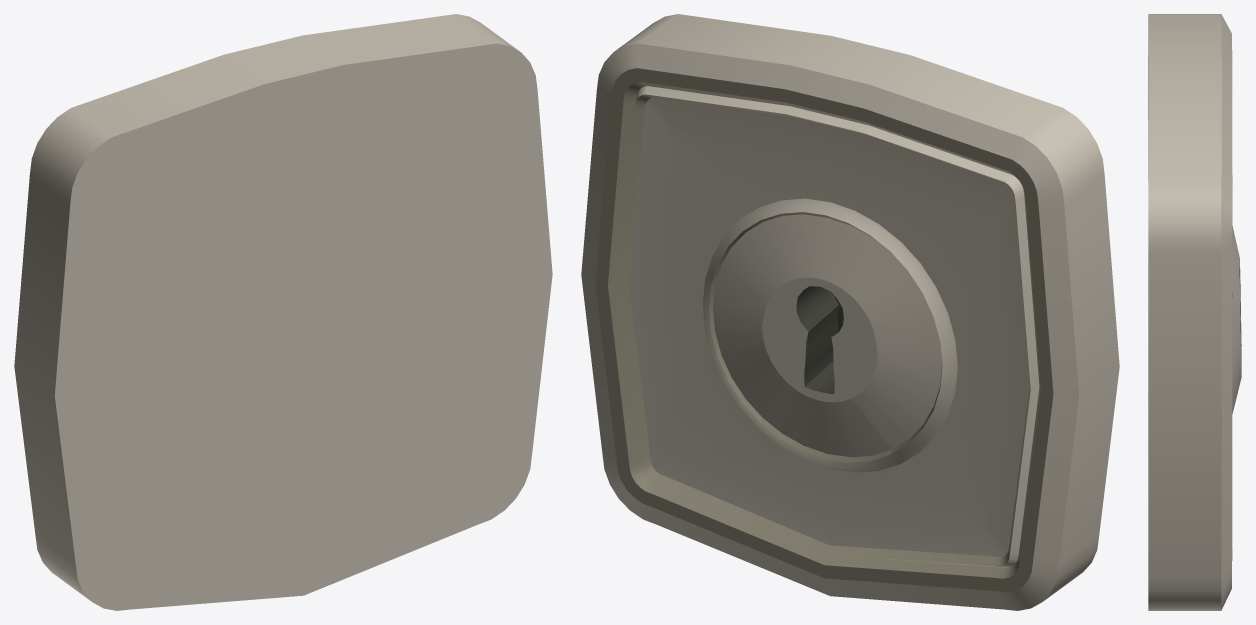
The model's file is Lock.fbx.
3 views of the same model, side by side, from view 1: azimuth 30°, elevation 25°; view 2: azimuth 150°, elevation 25°; view 3: azimuth 270°, elevation 25° (orthographic). The views are drawn at different scales.
Parts seen in each view (by area): view 1: Cube; view 2: Cube; view 3: Cube.
Part boxes in pixels (x1,y1,x2,y2): Cube: [14, 14, 552, 610]; Cube: [581, 14, 1119, 610]; Cube: [1148, 14, 1241, 610].
Bounding box in the file's own units: 372 × 372 × 66.91.
